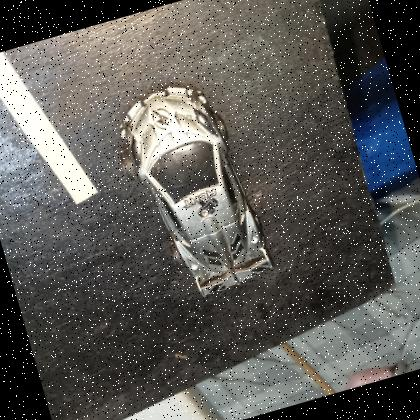Car: (104, 72, 282, 314)
